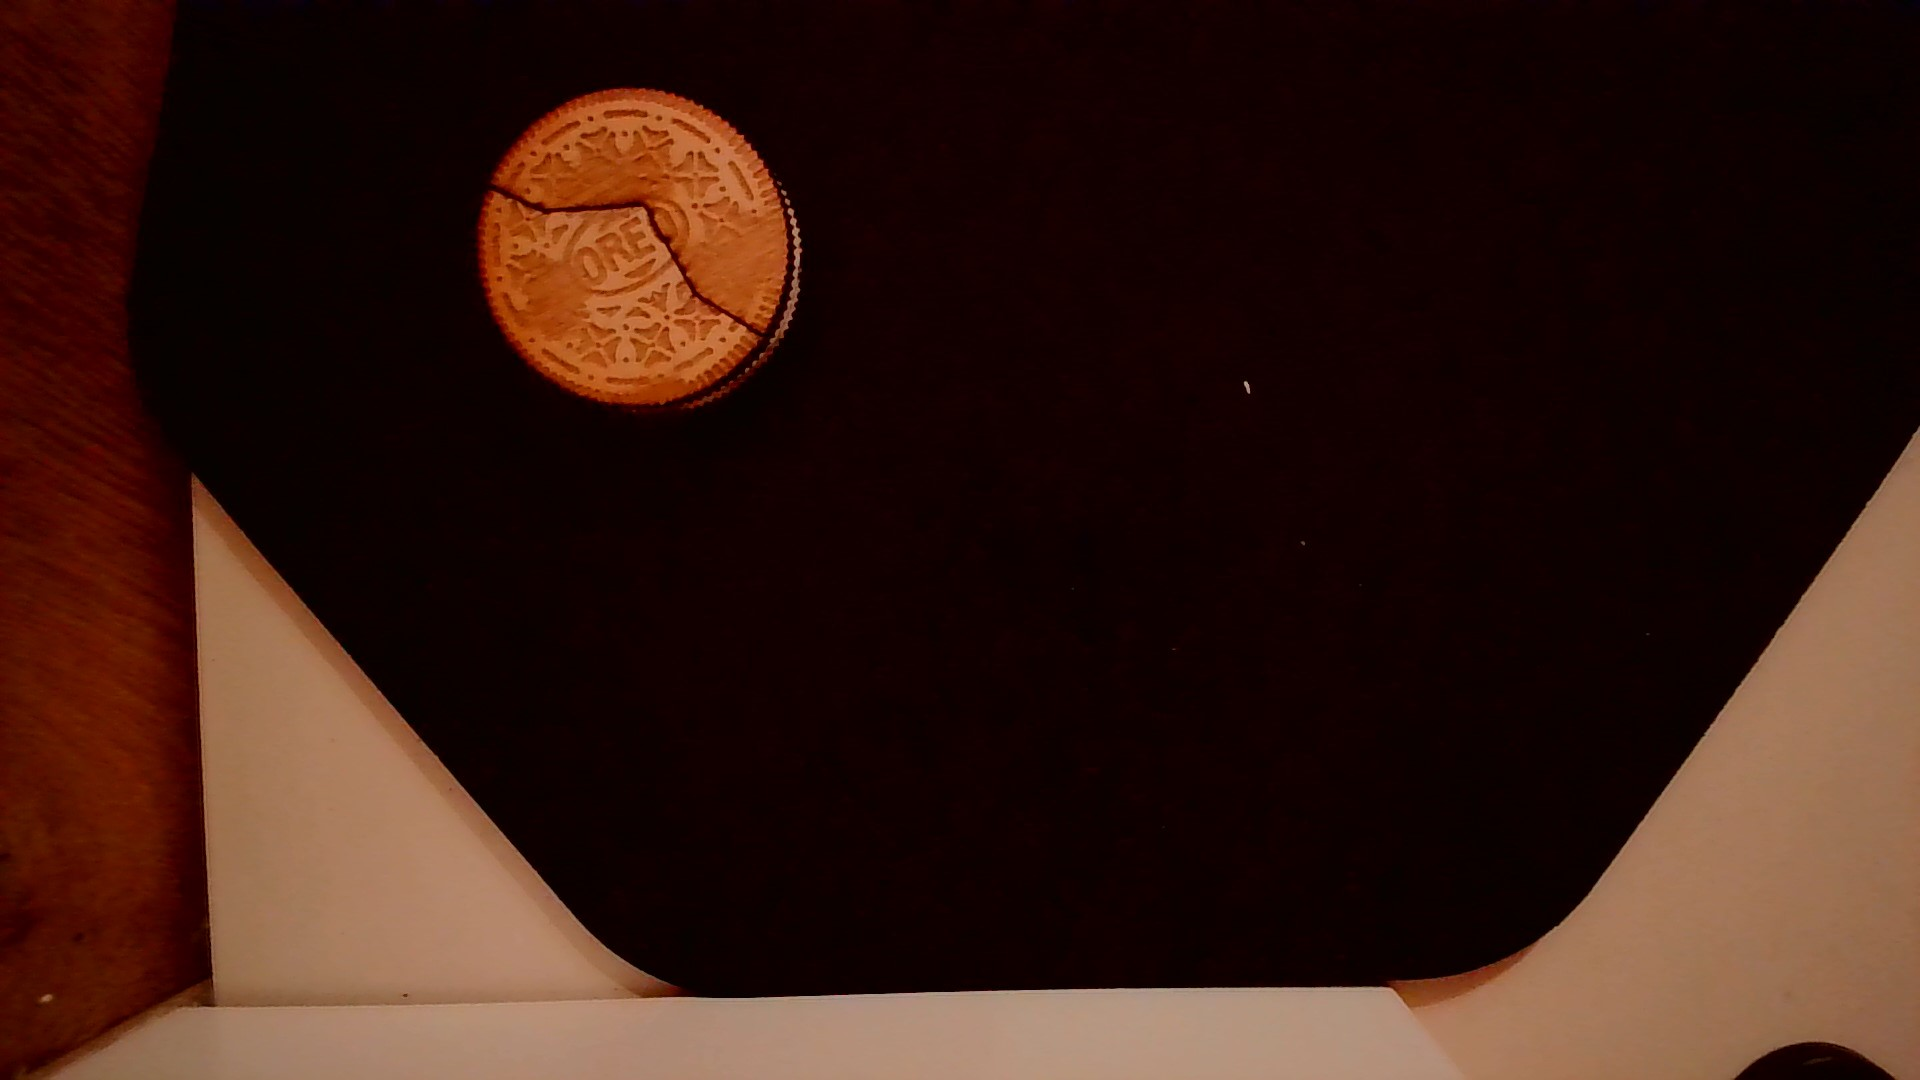Effacé: (694, 204, 789, 307), (512, 241, 575, 360), (560, 135, 663, 204)
Fissure: (487, 162, 767, 336)
Oréo: (477, 73, 815, 421)
